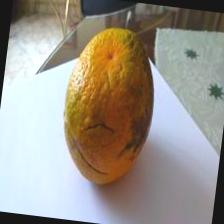Orange Rotten: (40, 14, 172, 197)
